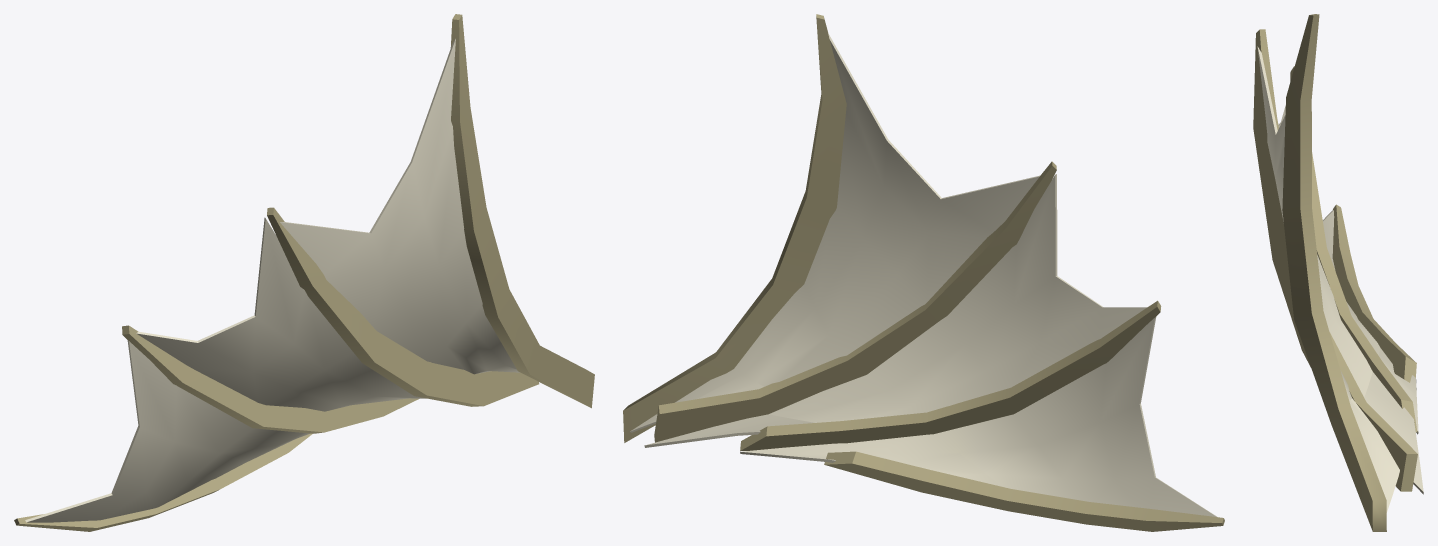
File: garden wall.fbx
The picture shows the model from 3 angles, left to right: view 1: azimuth 30°, elevation 25°; view 2: azimuth 150°, elevation 25°; view 3: azimuth 270°, elevation 25°; orthographic projection. The views are drawn at different scales.
Parts seen in each view (by area): view 1: Plane.004; view 2: Plane.004; view 3: Plane.004.
Boxes of the visible parts, x1,y1,x2,y2 form: Plane.004: (14,14,594,531); Plane.004: (623,14,1224,531); Plane.004: (1253,14,1423,531).
Bounding box in the file's own units: 716 × 521 × 183.
